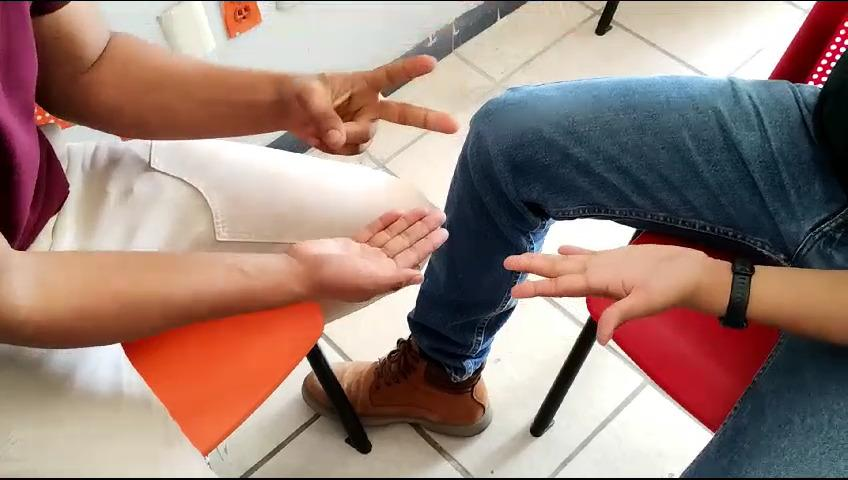Paper: (495, 223, 727, 346), (277, 191, 473, 308)
Scissor: (278, 41, 475, 170)
